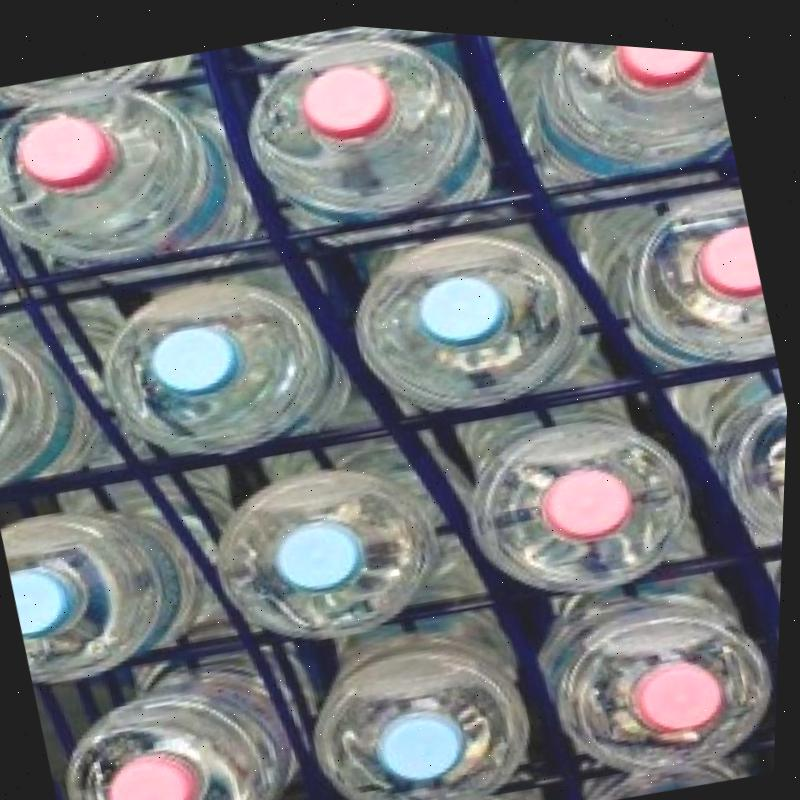botella: (0, 40, 279, 312), (0, 438, 273, 696), (443, 358, 718, 614), (86, 241, 371, 483), (334, 191, 611, 434), (526, 542, 785, 793), (225, 13, 500, 249), (205, 433, 473, 664), (42, 604, 357, 800), (289, 575, 558, 800), (592, 168, 782, 376), (500, 29, 734, 187), (0, 292, 132, 511), (704, 361, 791, 551), (0, 39, 197, 122), (582, 731, 751, 800), (239, 14, 453, 68), (370, 756, 548, 800), (0, 127, 21, 295)
